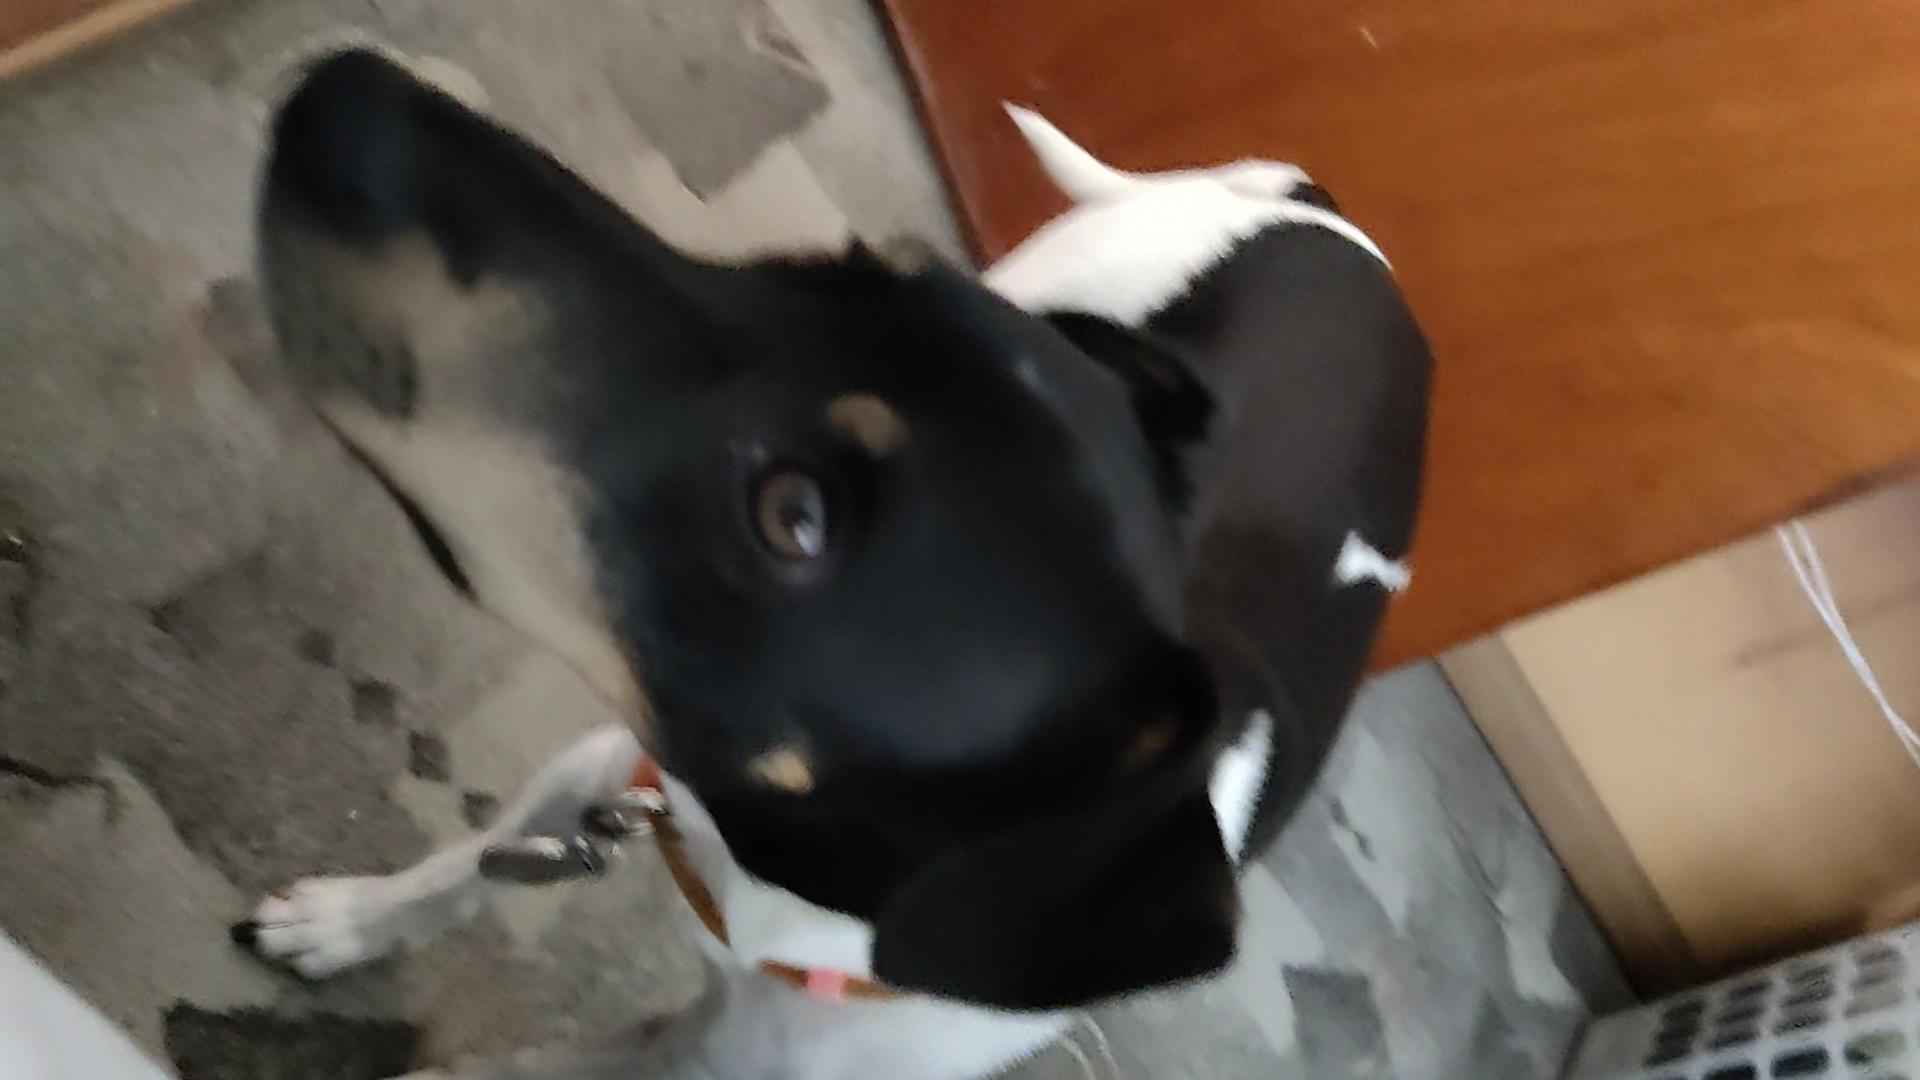Dog: (229, 40, 1440, 1073)
